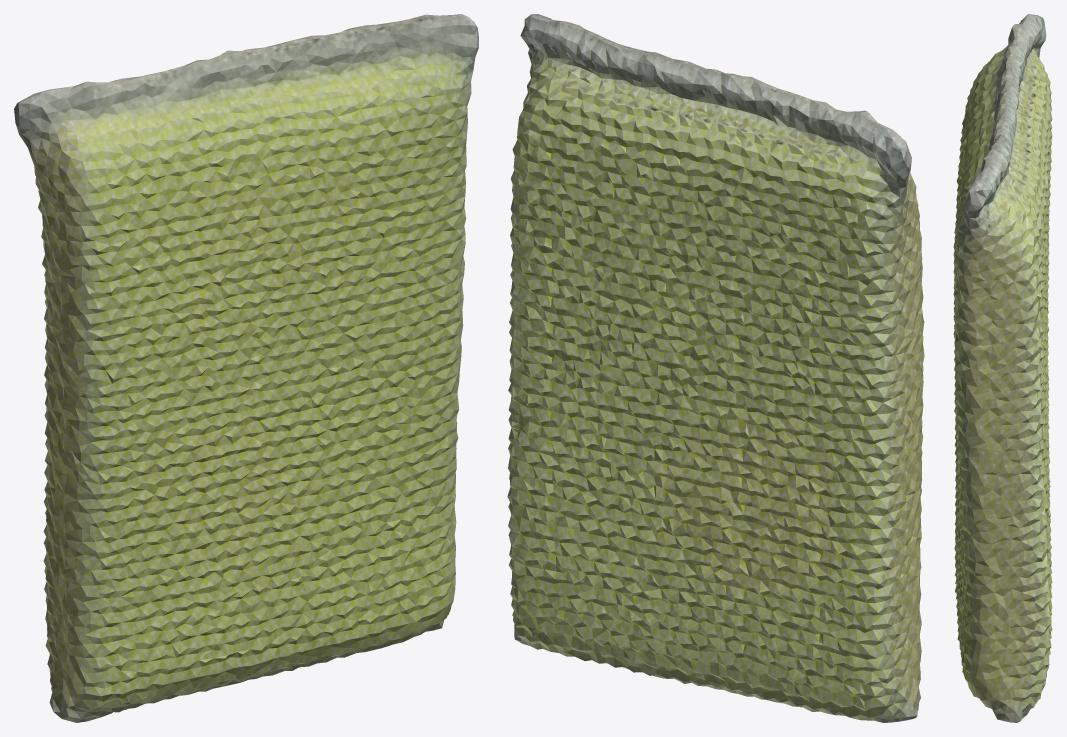
Rendered from sponge.glb.
3 renders of one model, left to right at view 1: azimuth 30°, elevation 25°; view 2: azimuth 150°, elevation 25°; view 3: azimuth 270°, elevation 25°, orthographic. The views are drawn at different scales.
Visible parts, largest first — view 1: textured.obj; view 2: textured.obj; view 3: textured.obj.
Boxes of the visible parts, x1=… form: textured.obj: x1=14, y1=14, x2=478, y2=722; textured.obj: x1=507, y1=14, x2=924, y2=722; textured.obj: x1=953, y1=14, x2=1052, y2=722.
Bounding box in the file's own units: 0.0793 × 0.1112 × 0.0181.
Materials: 1 (1 with a texture image).
